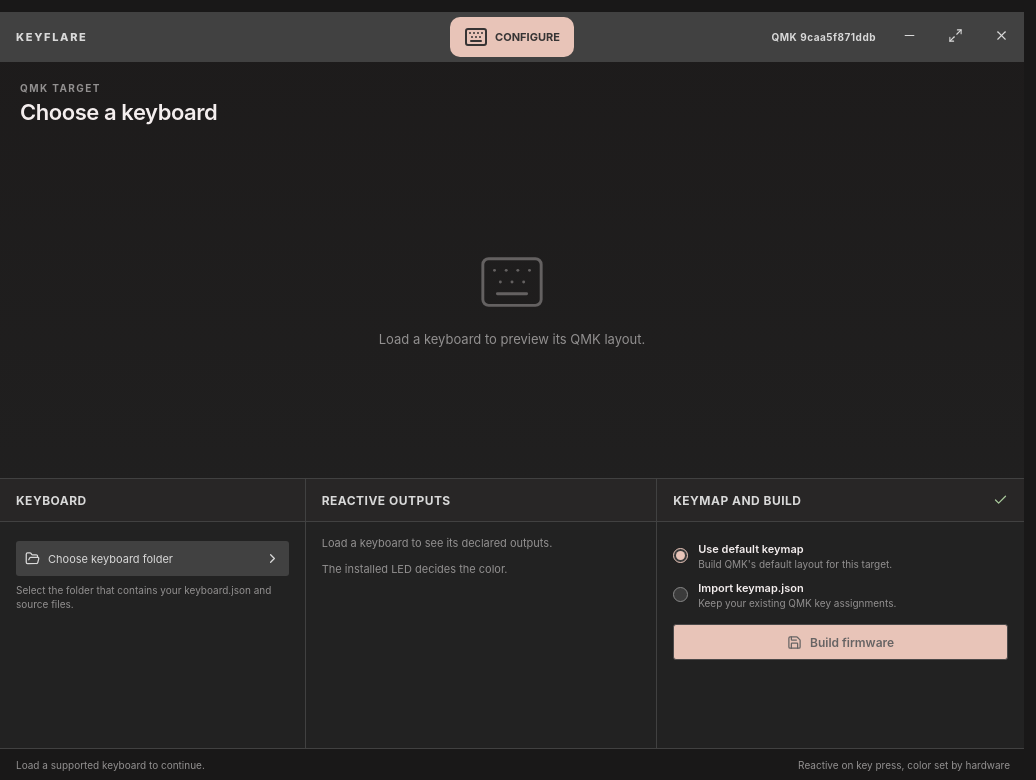
Test: Keyflare › shows only declared channels and saves a compiled artifact
This screenshot has width=1036, height=780.
Step 1. Click the button "Choose keyboard folder" → (152, 558), box [16,541,289,576]
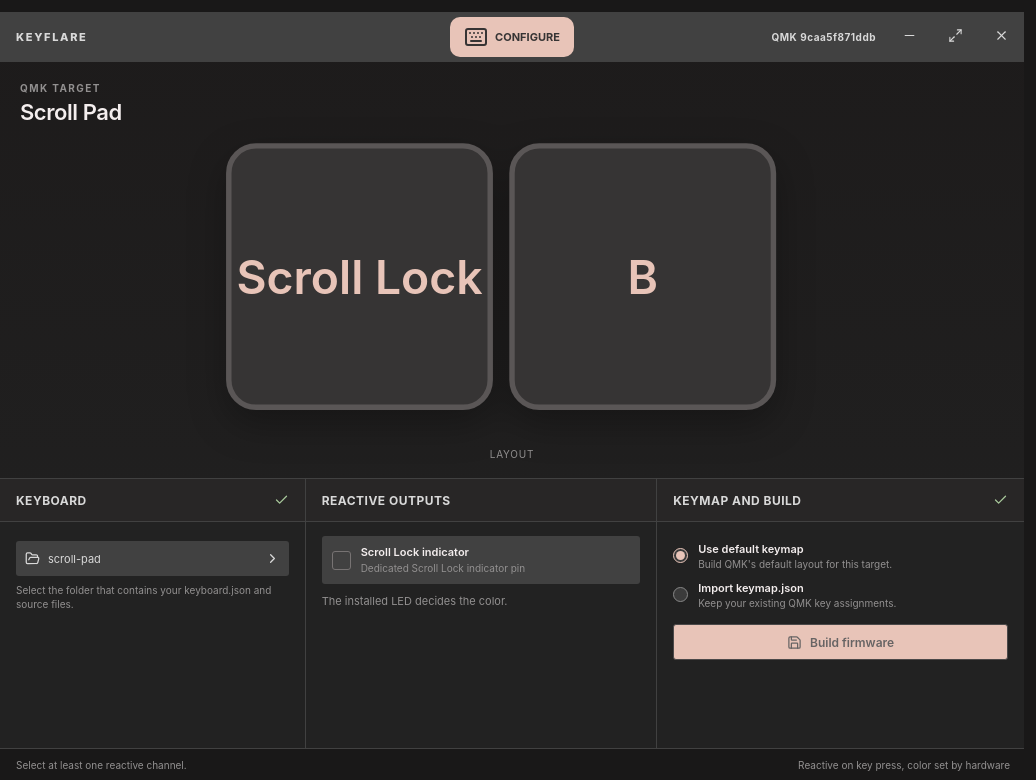
Expected: the heading "Scroll Pad" is shown, [20,99,122,125]
Expected: the checkbox labelled "Scroll Lock indicator" is shown
Expected: the element named "Keyboard layout preview" shows "Scroll Lock", [236,249,482,305]
Step 2. Click the checkbox labelled "Scroll Lock indicator" → (481, 560), box [322,536,640,584]
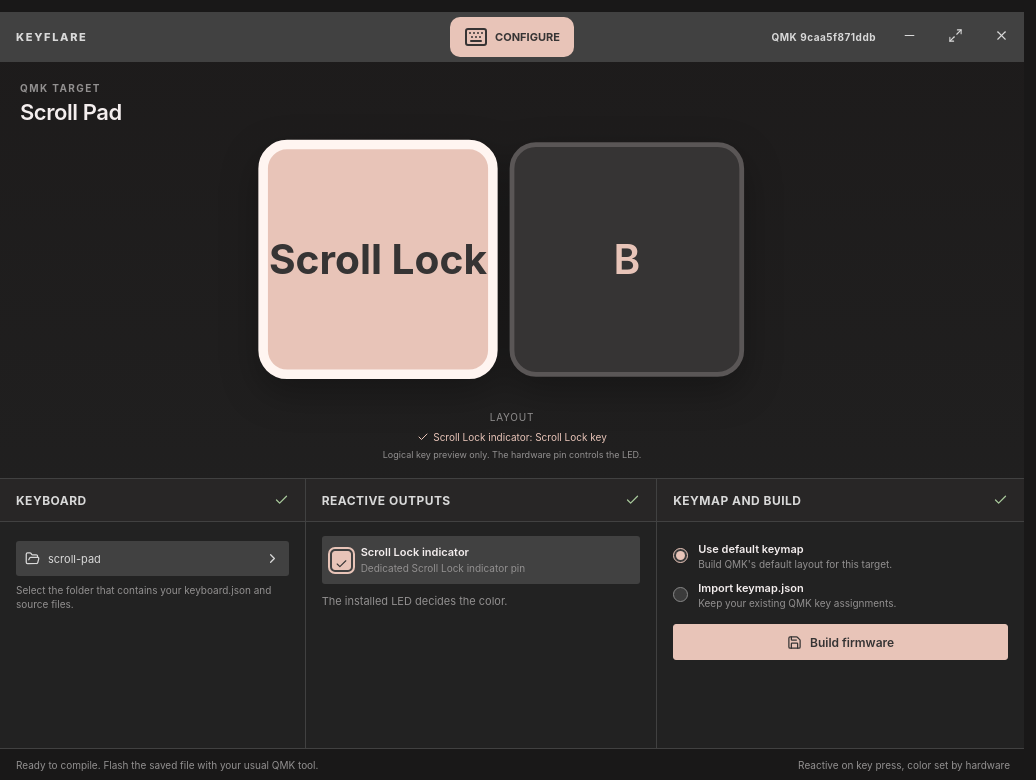
Expected: the text "Scroll Lock indicator: Scroll Lock key" is shown, [417,431,607,443]
Step 3. Click the button "Build firmware" → (841, 642), box [673,624,1008,660]
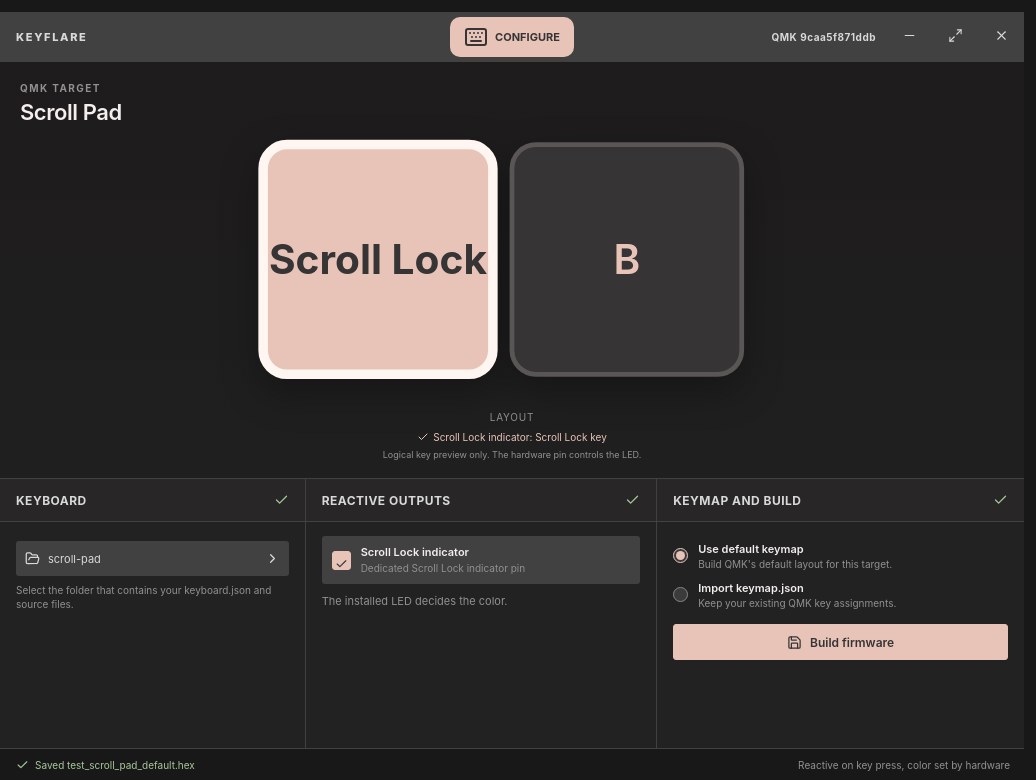
Expected: the text "Saved test_scroll_pad_default.hex" is shown, [16,752,195,776]
